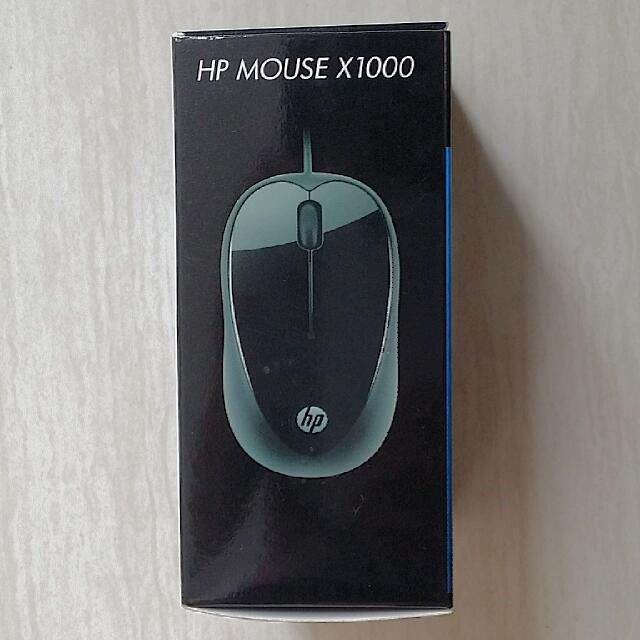hp-mouse-X1000: (212, 124, 409, 470)
